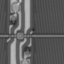dust: (31, 27, 36, 31)
